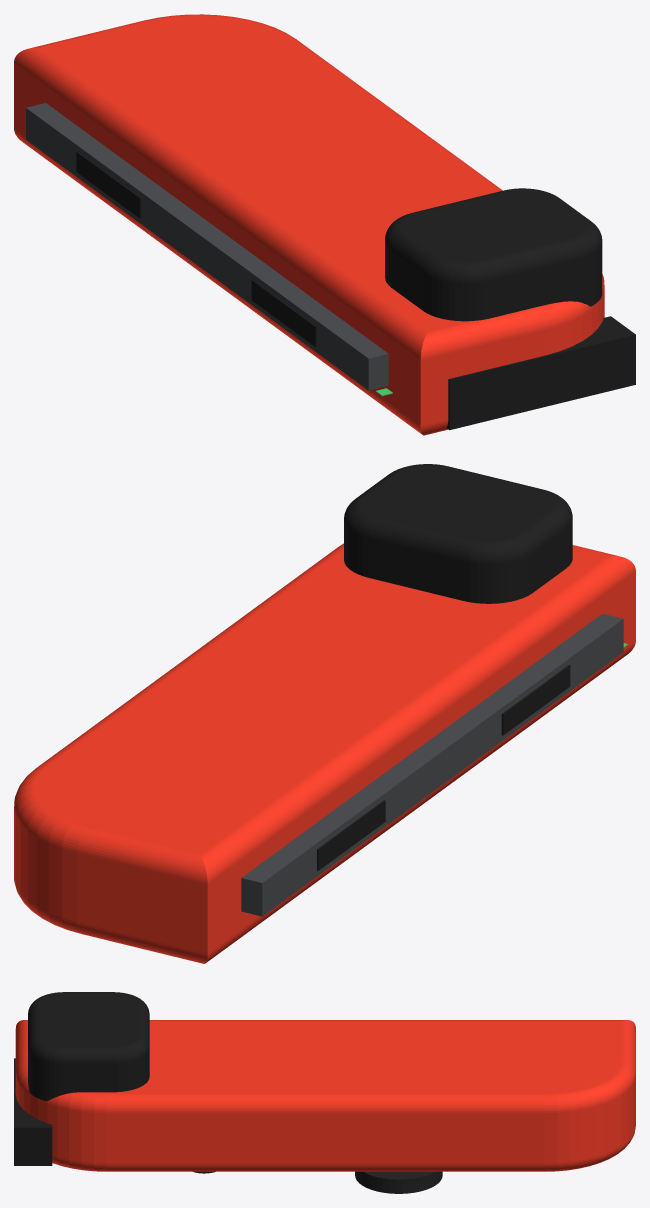
3 views of the same model, one above another, from view 1: azimuth 30°, elevation 25°; view 2: azimuth 150°, elevation 25°; view 3: azimuth 270°, elevation 25° (orthographic). The views are drawn at different scales.
Parts seen in each view (by area): view 1: g0-plastic-body, g2-plastic, g1-metal; view 2: g0-plastic-body, g2-plastic, g1-metal; view 3: g0-plastic-body, g2-plastic, g3-rubber.
Part boxes in pixels (box(x1,y1,x2,y2)): g0-plastic-body: box(14, 14, 604, 435); g2-plastic: box(76, 151, 635, 430); g1-metal: box(26, 103, 388, 390); g0-plastic-body: box(14, 543, 635, 963); g2-plastic: box(317, 464, 572, 870); g1-metal: box(241, 613, 623, 916); g0-plastic-body: box(15, 1020, 635, 1171); g2-plastic: box(14, 992, 215, 1173); g3-rubber: box(355, 1171, 442, 1193).
Size of the model in its own units: 36.1 by 28.4 by 102.
